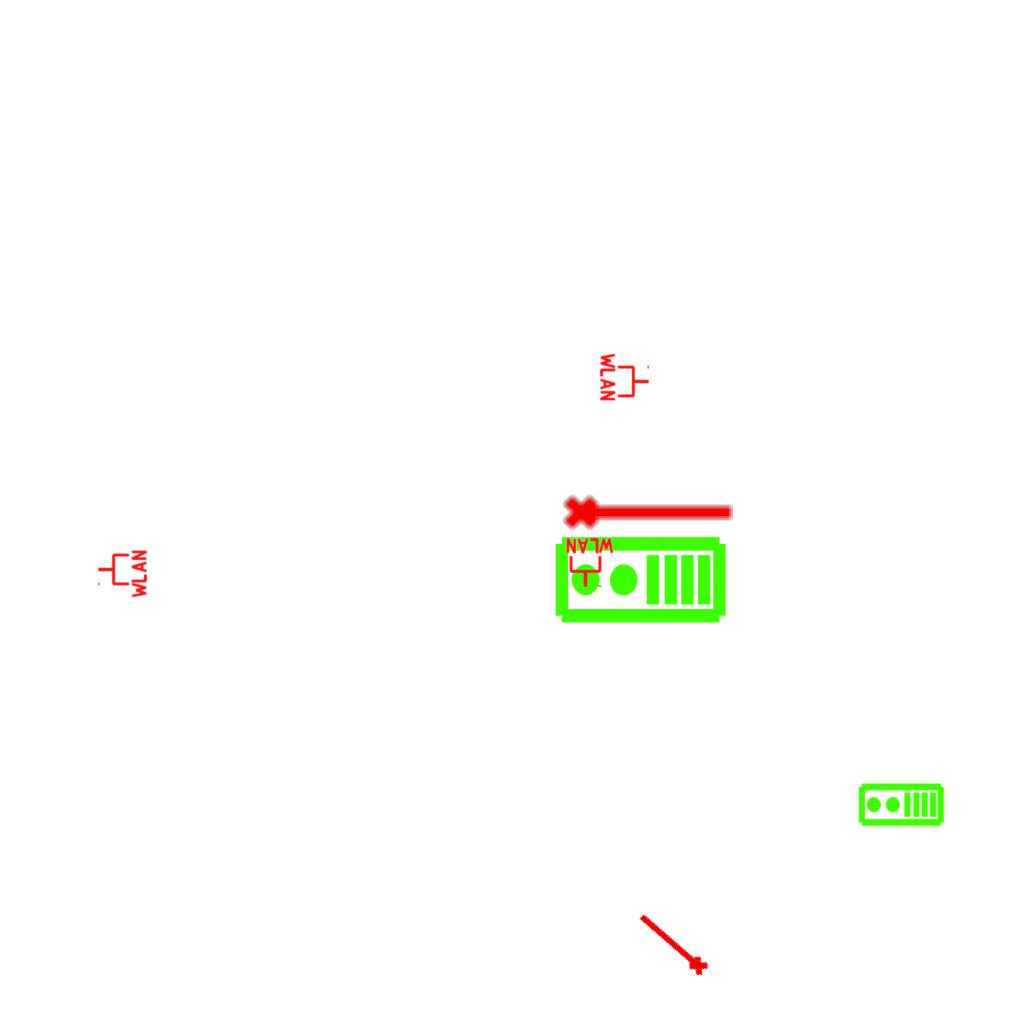ASR_Ansaugoeffnung: (561, 487, 737, 533), (631, 906, 713, 983)
Gegensprechanlage_mit_Video: (552, 534, 728, 629), (857, 782, 945, 829)
WLAN: (599, 351, 651, 403), (96, 548, 148, 600), (564, 537, 616, 589)
